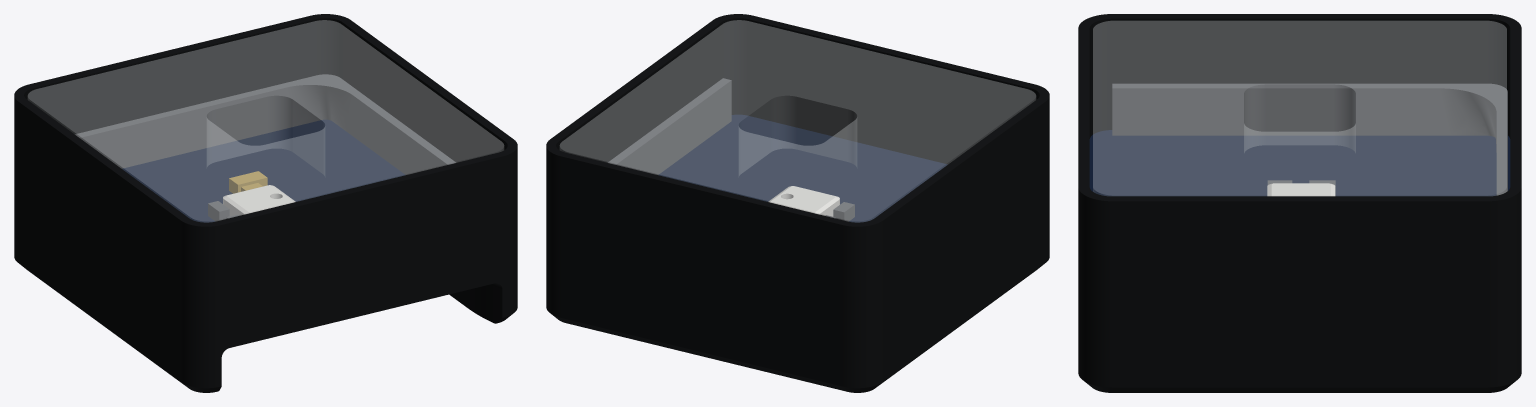
The model's file is temp-sensor.glb.
3 views of the same model, side by side, from view 1: azimuth 30°, elevation 25°; view 2: azimuth 150°, elevation 25°; view 3: azimuth 270°, elevation 25° (orthographic). The views are drawn at different scales.
Visible parts, largest first — view 1: black, glass, grey, pcb, white, gold; view 2: black, glass, pcb, grey, white; view 3: black, glass, pcb, grey, white.
Part boxes in pixels (box(x1,y1,x2,y2)): black: box(14, 14, 517, 392); glass: box(28, 20, 503, 222); grey: box(75, 74, 456, 221); pcb: box(122, 119, 405, 222); white: box(223, 185, 295, 216); gold: box(229, 171, 267, 193); black: box(546, 14, 1049, 392); glass: box(560, 20, 1035, 222); pcb: box(658, 114, 947, 222); grey: box(607, 78, 854, 221); white: box(768, 186, 839, 216); black: box(1078, 14, 1521, 392); glass: box(1093, 21, 1506, 195); pcb: box(1089, 130, 1510, 196); grey: box(1112, 83, 1507, 195); white: box(1267, 183, 1335, 196).
Bounding box in the file's own units: 0.0195 × 0.00954 × 0.0195.
